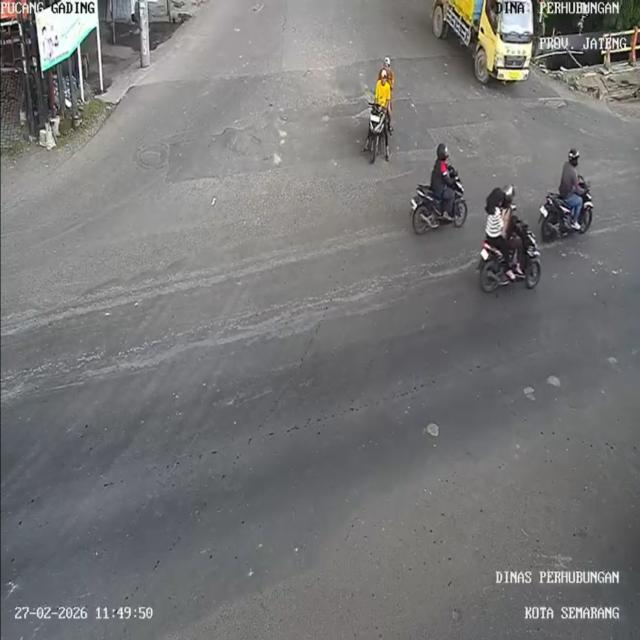motorcycle: (474, 235, 542, 290), (412, 183, 470, 241), (540, 192, 596, 245), (366, 100, 386, 163)
person: (428, 142, 456, 210), (502, 182, 525, 258), (556, 149, 586, 204), (482, 184, 504, 244), (373, 70, 392, 114), (381, 57, 396, 90)
rider_region: (476, 183, 542, 294), (411, 141, 468, 238), (541, 150, 595, 242), (359, 54, 398, 168)
